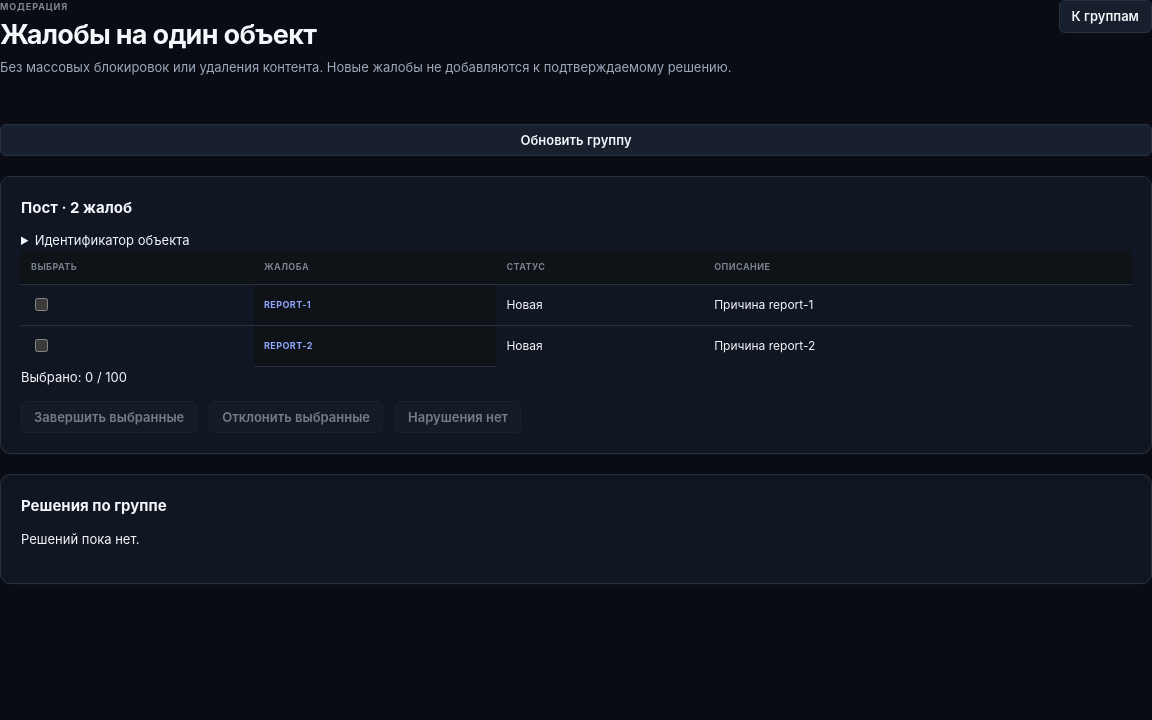
it: operations safety and meaningful controls › requires a new selection after a group conflict
This screenshot has width=1152, height=720.
Click the checkbox named "Выбрать жалобу report-1": (42, 304) [35,298,48,310]
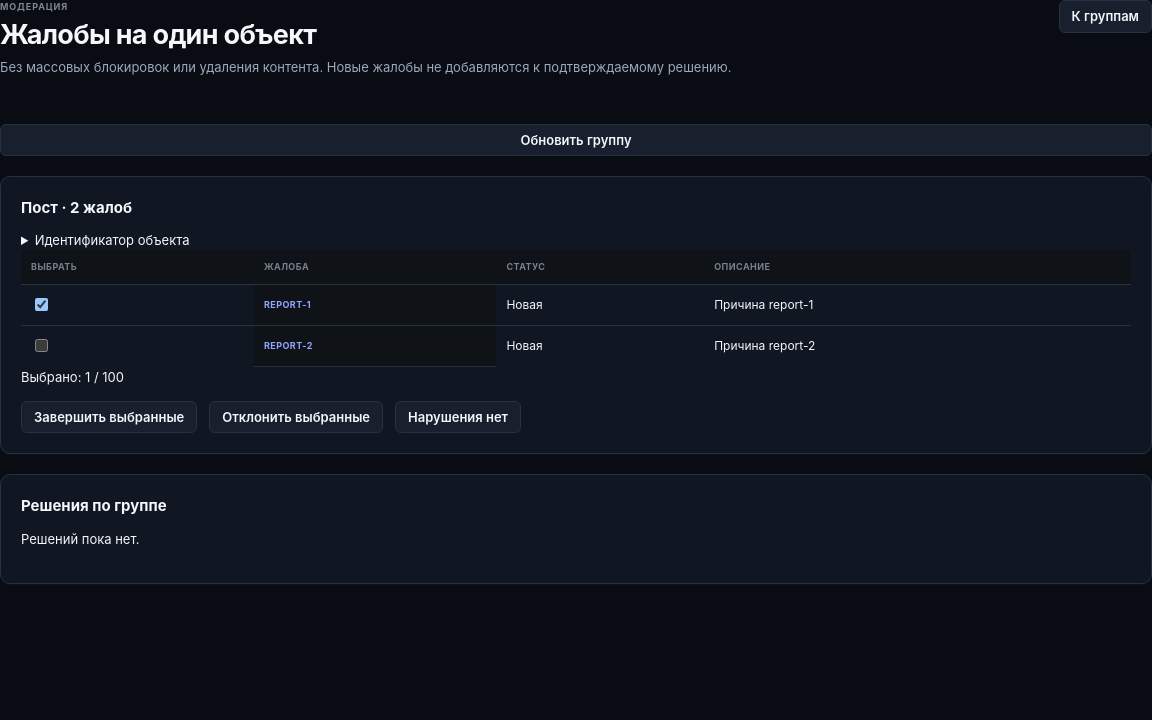
Click the button "Завершить выбранные": (109, 417) [21,401,197,433]
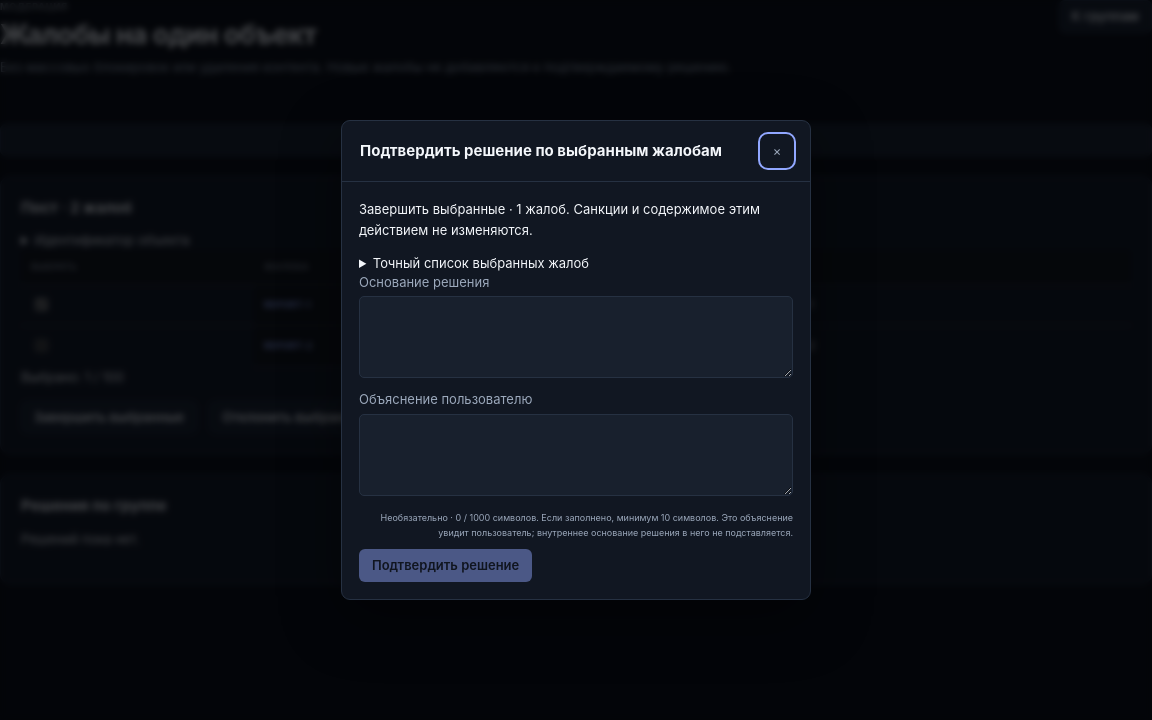
In the text box labelled "Основание решения": (576, 337) [359,296,793,378], type "Проверены выбранные жалобы"
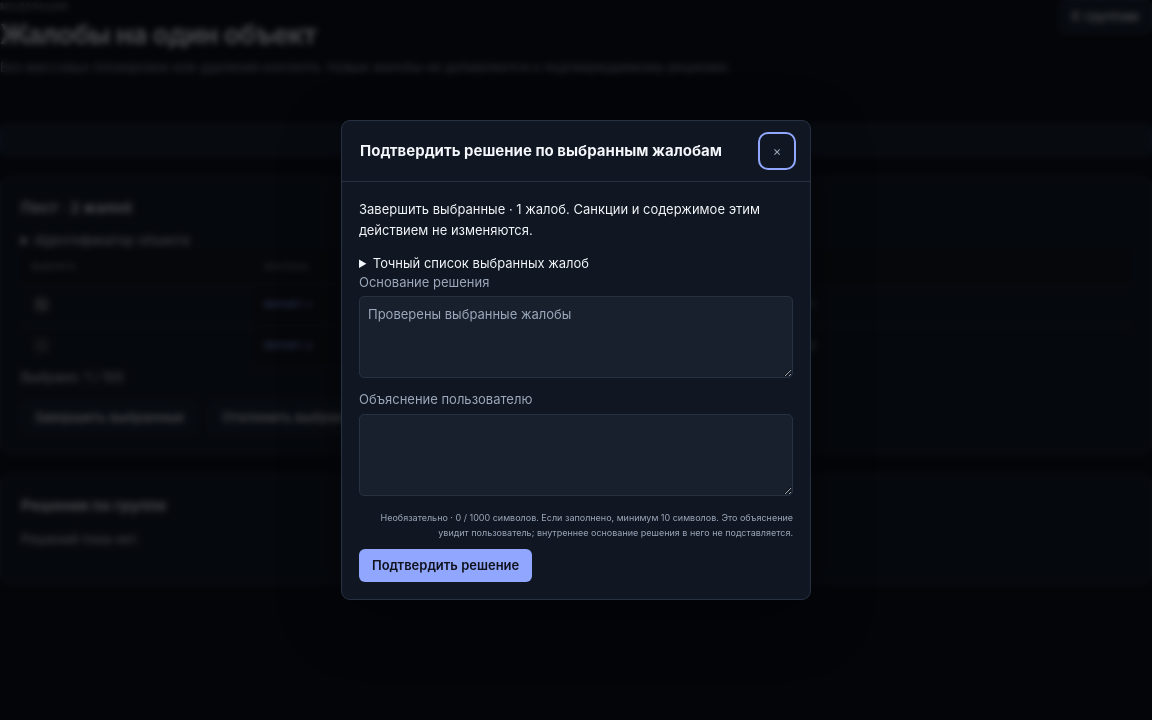
Click the button "Подтвердить решение": (446, 565) [359,549,532,582]
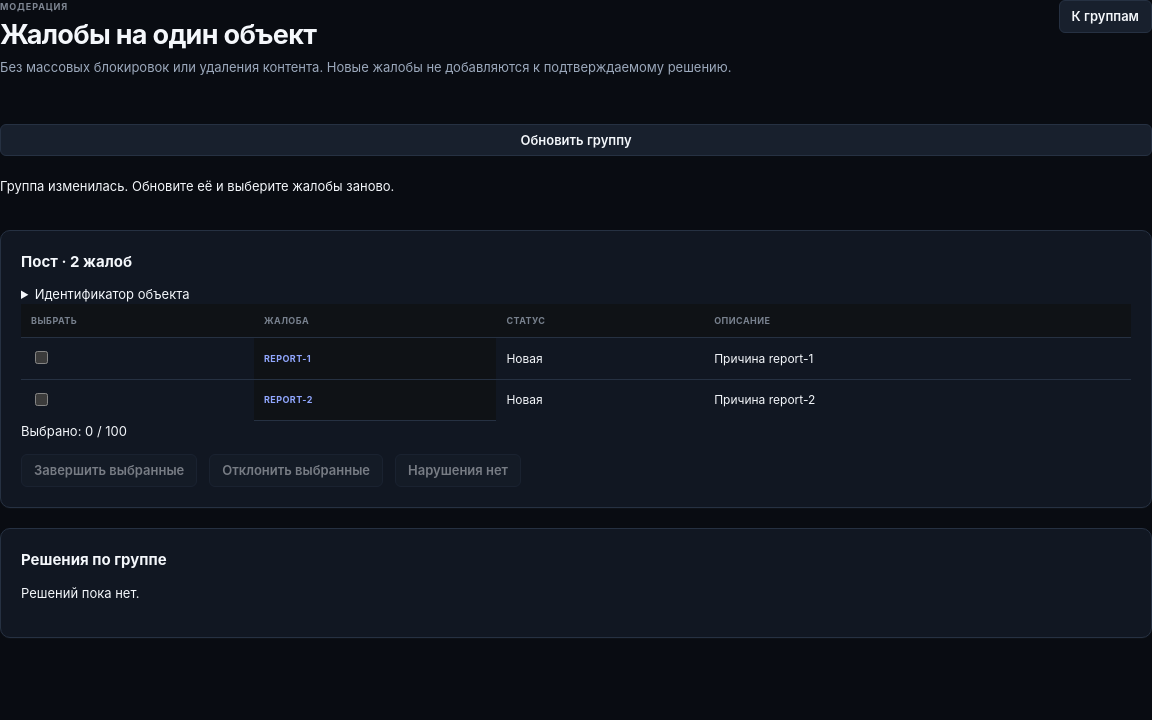
Expected: the text "Группа изменилась. Обновите её и выберите жалобы заново." is shown, [0,178,394,194]
Expected: the button "Завершить выбранные" is disabled, [21,454,197,487]
